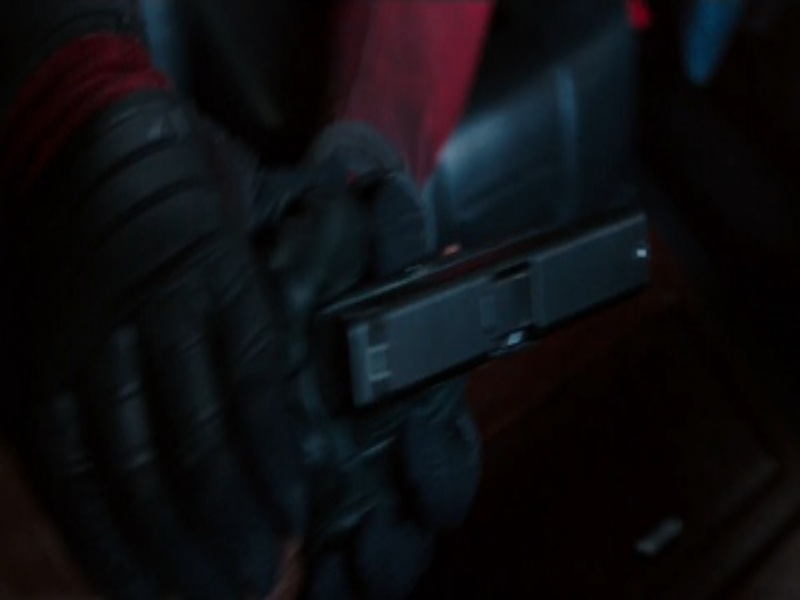weapon: (319, 200, 648, 406)
